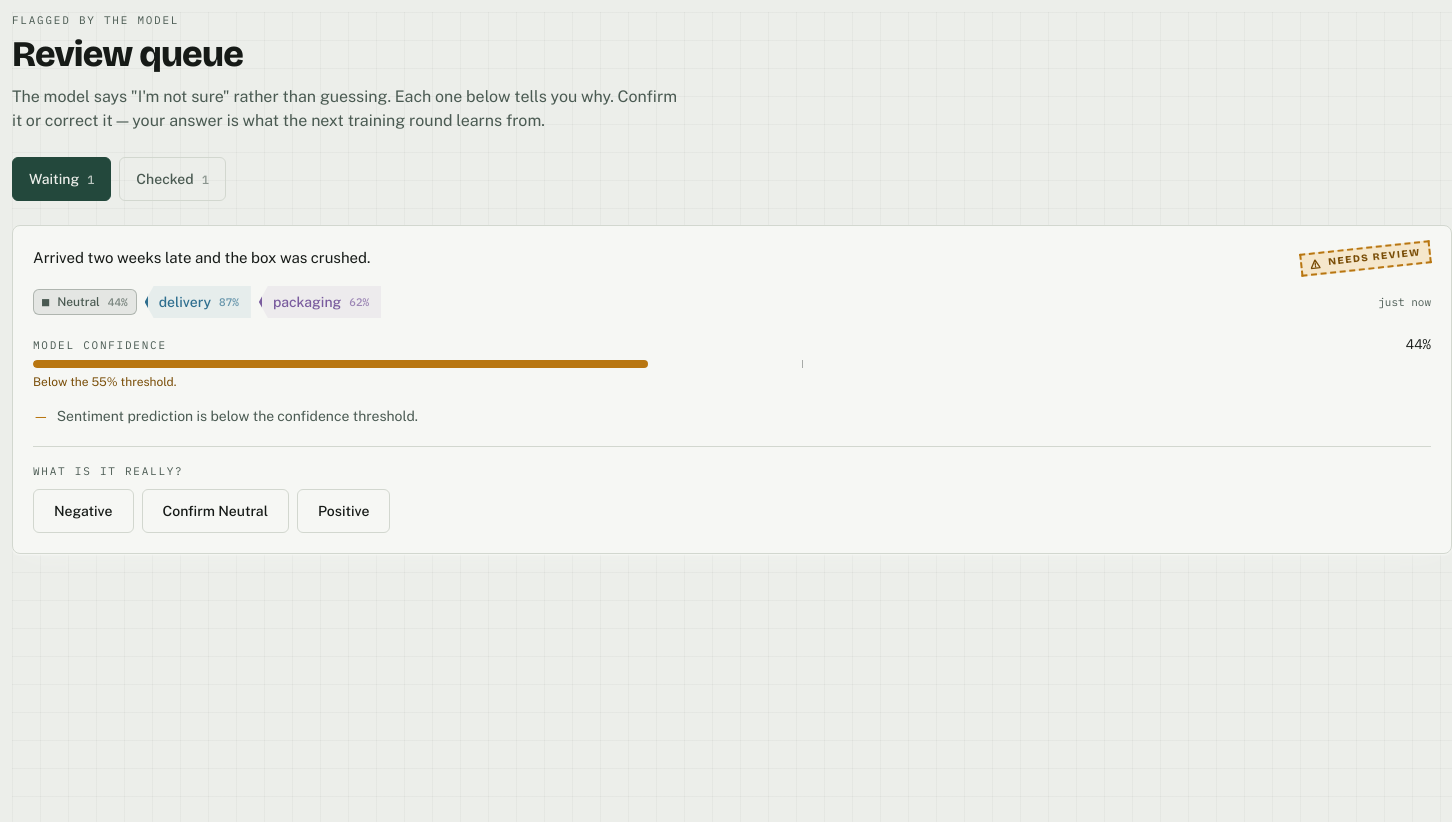
Test: Queue › separates waiting from checked items
Click the tab "Checked1" at (173, 178), box [119,156,226,200]
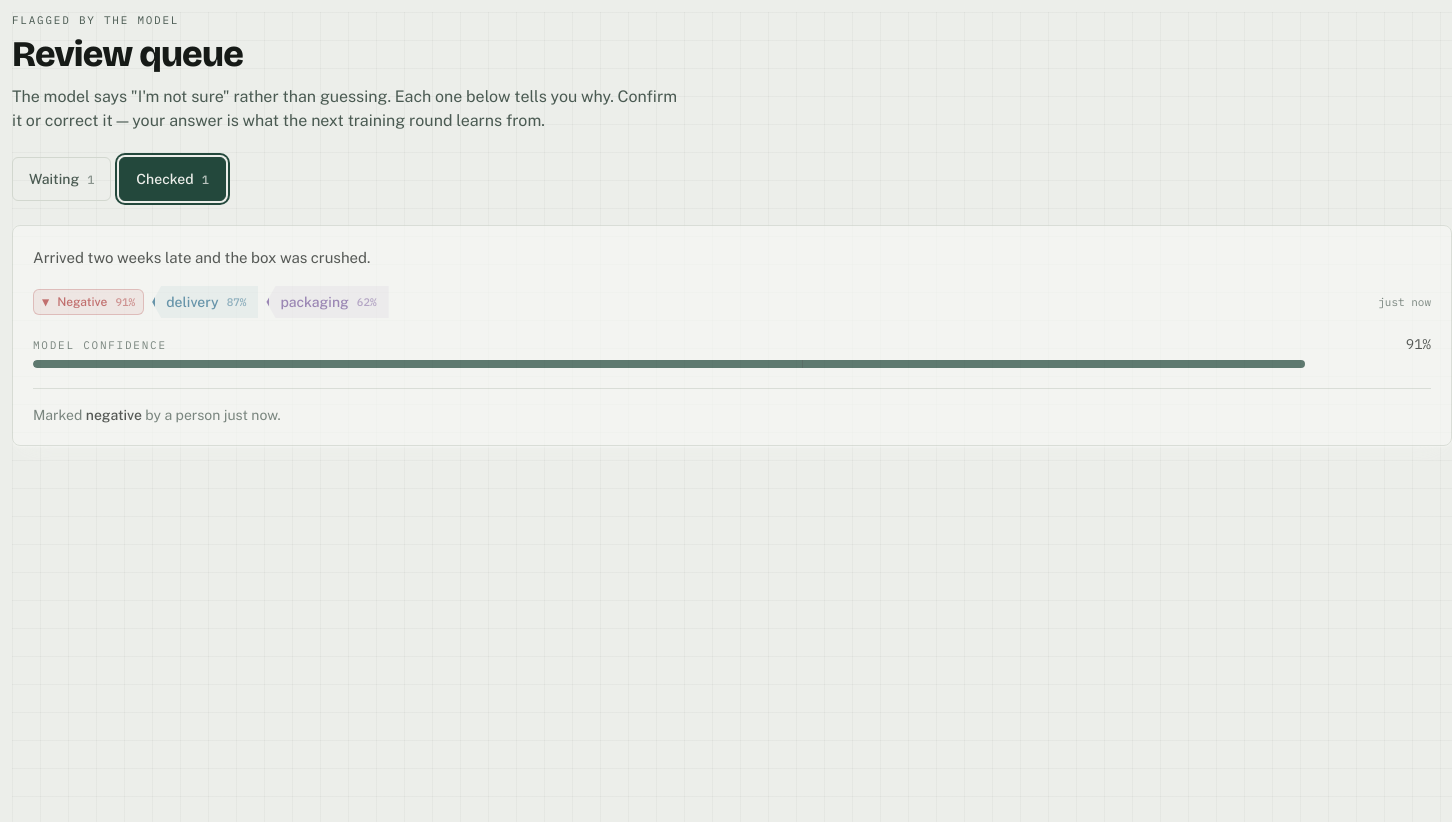
Check: the text "Marked negative by a person just now." is shown, box [33,407,281,423]
